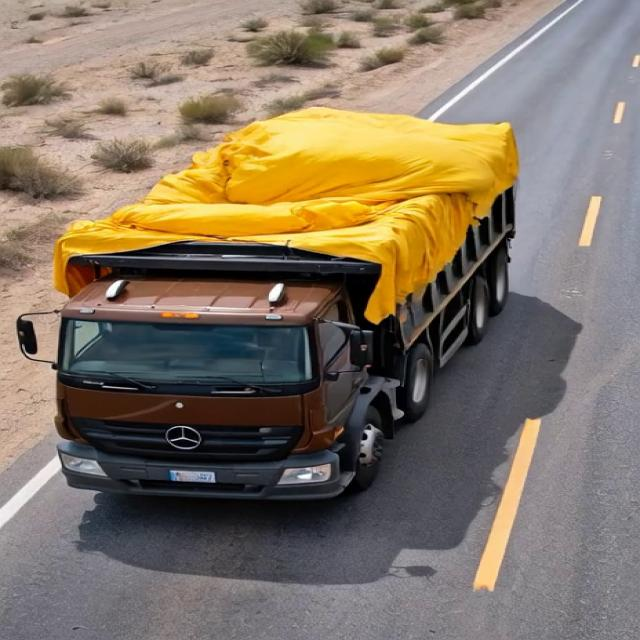Box: (57, 118, 509, 278)
Truck: (16, 96, 552, 528)
